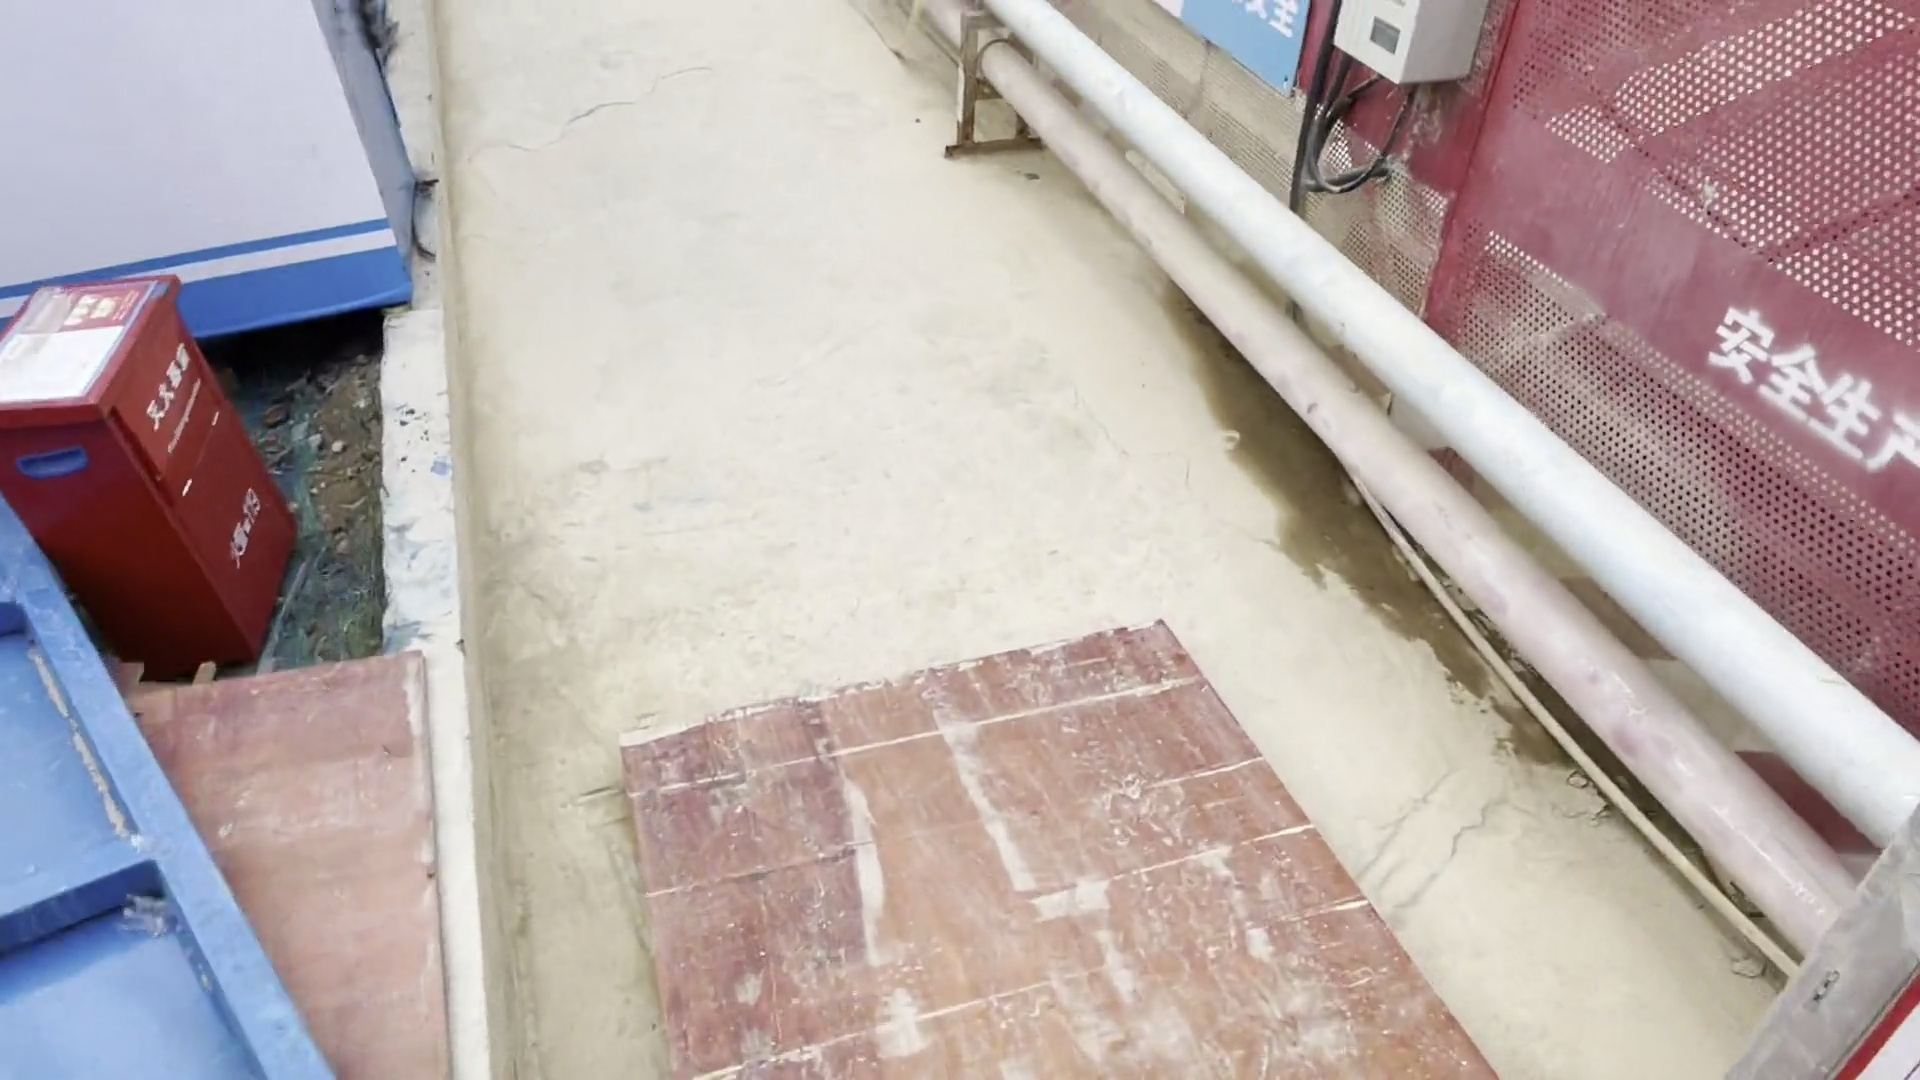board: (626, 596, 1441, 1080)
ebox: (1303, 1, 1487, 216)
